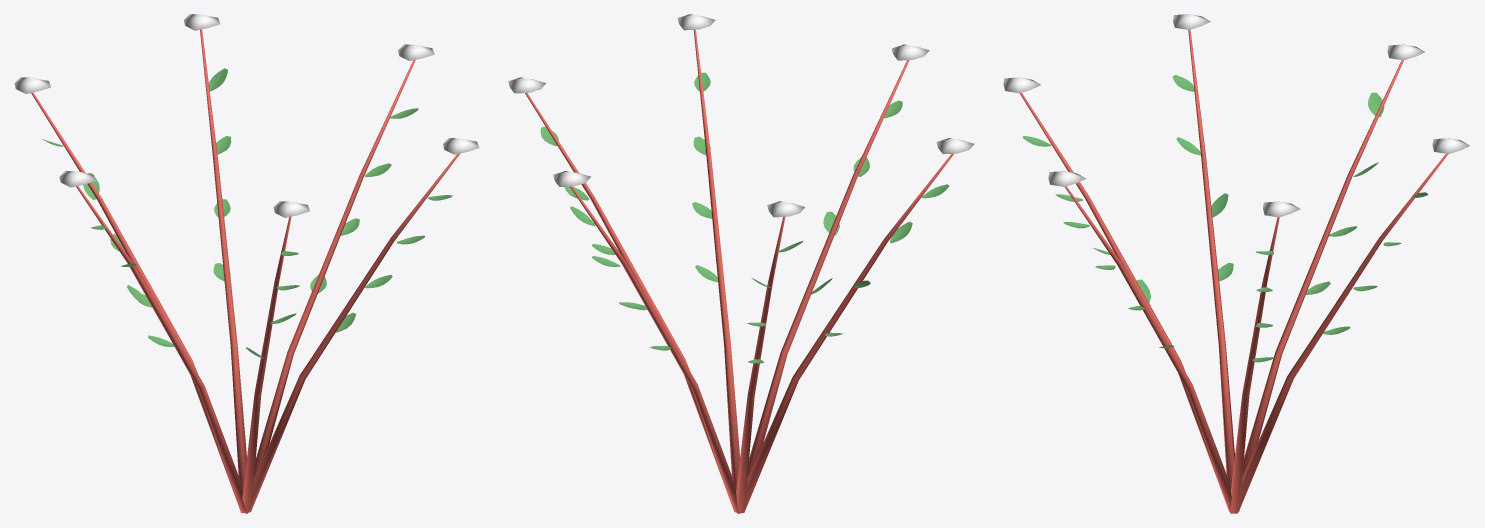
Rendered from shrub_dogwood.glb.
The picture shows the model from 3 angles, left to right: view 1: azimuth 30°, elevation 25°; view 2: azimuth 150°, elevation 25°; view 3: azimuth 270°, elevation 25°; orthographic projection.
Parts seen in each view (by area): view 1: Flora_Dogwood; view 2: Flora_Dogwood; view 3: Flora_Dogwood.
Part boxes in pixels (x1,y1,x2,y2): Flora_Dogwood: (14, 14, 479, 513); Flora_Dogwood: (508, 14, 974, 513); Flora_Dogwood: (1003, 14, 1469, 513).
Size of the model in its own units: 2.02 by 1.87 by 1.96.
